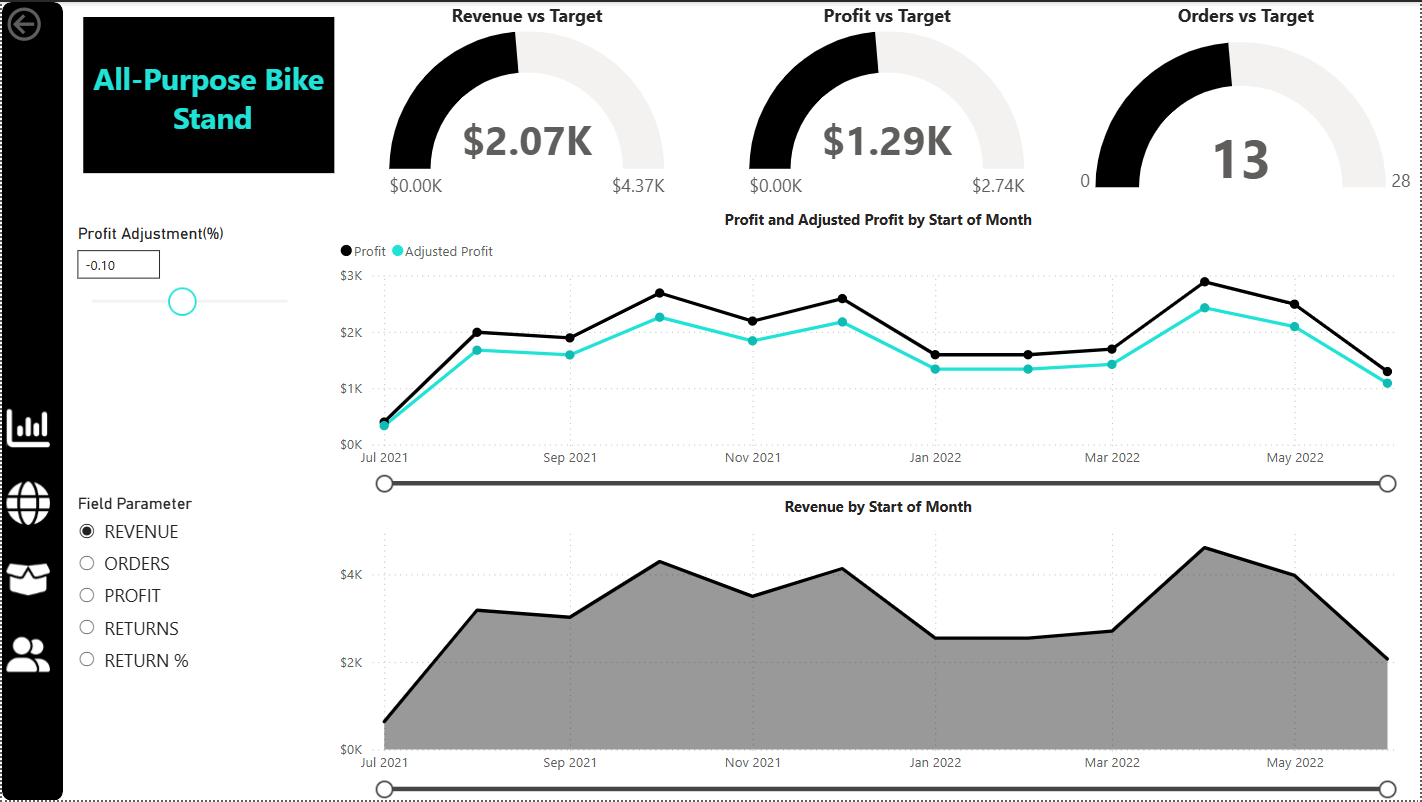

The page's visual inventory and layout, read from the dashboard file:
{"tool":"powerbi","page":{"name":"Product Detail","canvas":[1280,720],"ordinal":2},"visuals":[{"type":"shape","box":[0,0,55,720.3],"z":0},{"type":"gauge","title":"Revenue vs Target","fields":{"Y":["Measure Table.Total Revenue"],"MaxValue":["Measure Table.Revenue Target"]},"box":[314.5,0,317.8,187.1],"z":1000},{"type":"gauge","title":"Profit vs Target","fields":{"Y":["Sales Data.Total Profit"],"MaxValue":["Measure Table.Profit Target"]},"box":[638.5,0,317.8,187.1],"z":2000},{"type":"gauge","title":"Orders vs Target","fields":{"Y":["Measure Table.Total Orders"],"MaxValue":["Measure Table.Order Target"]},"box":[962.2,0,317.8,187.1],"z":3000},{"type":"lineChart","fields":{"Category":["Calendar Lookup.Data Hierarchy.Start of Year","Calendar Lookup.Data Hierarchy.Start of Month","Calendar Lookup.Data Hierarchy.Start of Week"],"Y":["Sales Data.Total Profit","Measure Table.Adjusted Profit"]},"box":[299.8,187.1,980.6,258.1],"z":4000},{"type":"areaChart","title":"Revenue by Start of Month","fields":{"Y":["Measure Table.Total Revenue"],"Category":["Calendar Lookup.Data Hierarchy.Start of Year","Calendar Lookup.Data Hierarchy.Start of Month","Calendar Lookup.Data Hierarchy.Start of Week"]},"box":[299.8,445.2,980.6,275],"z":5000},{"type":"card","fields":{"Values":["Min(Product Lookup.ProductName)"]},"box":[73.4,13.7,226.4,140.6],"z":6000},{"type":"actionButton","box":[0,0,100,40],"z":7000},{"type":"actionButton","box":[0,360.7,54.7,47.3],"z":8000},{"type":"actionButton","box":[0,428.8,54.7,47.3],"z":9000},{"type":"actionButton","box":[0,496.8,54.7,47.3],"z":10000},{"type":"actionButton","box":[0,564.8,54.7,47.3],"z":11000},{"type":"slicer","fields":{"Values":["Profit Adjustment(%).Profit Adjustment(%)"]},"box":[54.7,195.3,225.2,242.6],"z":12000},{"type":"slicer","fields":{"Values":["Field Parameter.Field Parameter"]},"box":[55,438,225,282],"z":13000}]}

Visuals, with their boxes on the page's 1280x720 design canvas (x1, y1, x2, y2). These are canvas units, not pixel positions in the 1422x802 screenshot, which may show the page scaled, cropped or inside an application window:
shape: region(0, 0, 55, 720)
"Revenue vs Target" gauge: region(314, 0, 632, 187)
"Profit vs Target" gauge: region(638, 0, 956, 187)
"Orders vs Target" gauge: region(962, 0, 1280, 187)
lineChart - Calendar Lookup.Data Hierarchy.Start of Year x Calendar Lookup.Data Hierarchy.Start of Month: region(300, 187, 1280, 445)
"Revenue by Start of Month" areaChart: region(300, 445, 1280, 720)
card - Min(Product Lookup.ProductName): region(73, 14, 300, 154)
actionButton: region(0, 0, 100, 40)
actionButton: region(0, 361, 55, 408)
actionButton: region(0, 429, 55, 476)
actionButton: region(0, 497, 55, 544)
actionButton: region(0, 565, 55, 612)
slicer - Profit Adjustment(%).Profit Adjustment(%): region(55, 195, 280, 438)
slicer - Field Parameter.Field Parameter: region(55, 438, 280, 720)
